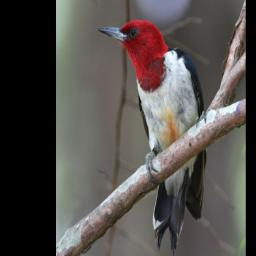Woodpecker: (97, 18, 207, 254)
